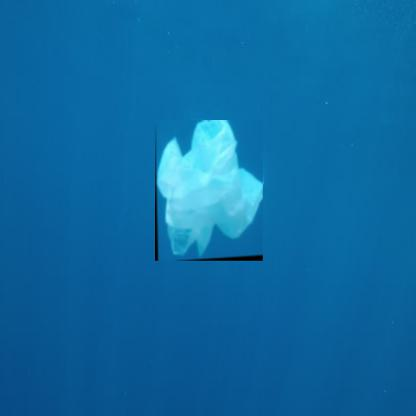waste: (155, 120, 264, 262)
